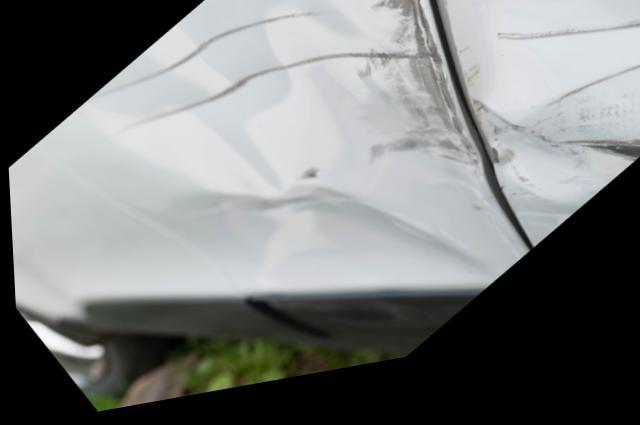dent: (83, 0, 507, 316), (475, 125, 618, 221)
scratch: (488, 0, 640, 191), (354, 0, 480, 193)
